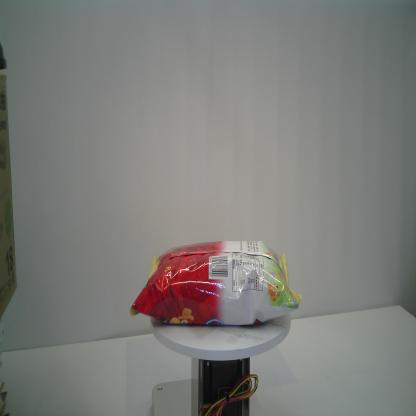Puffed Food: (130, 240, 302, 327)
